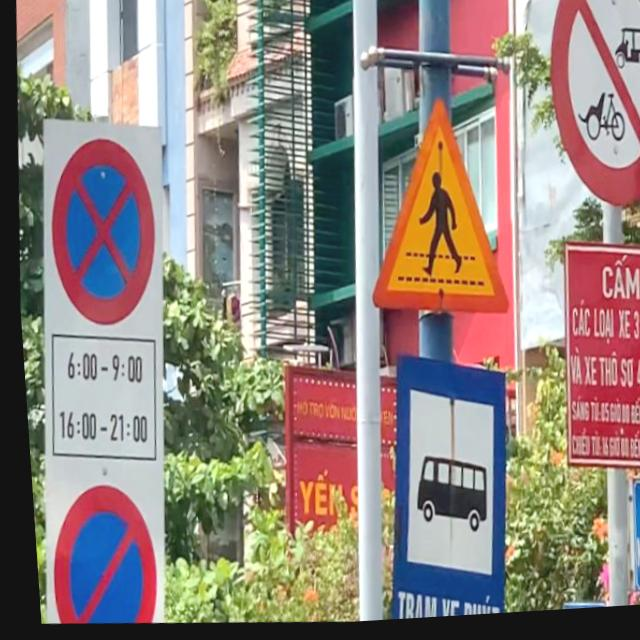Ben xe buyt: (363, 350, 515, 624)
Cam do xe: (37, 479, 155, 629)
Cam dung xe va do xe: (38, 134, 164, 333)
Nguoi di bo cat ngang: (354, 94, 519, 331)
